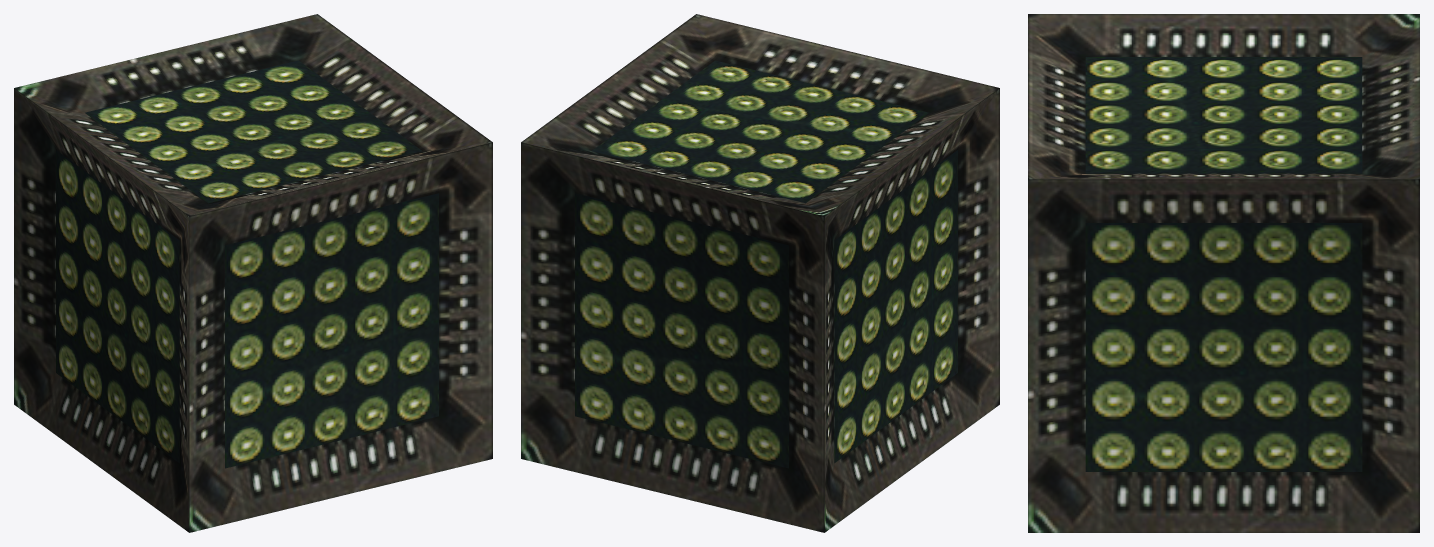
File: Crate02.FBX
The picture shows the model from 3 angles, left to right: view 1: azimuth 30°, elevation 25°; view 2: azimuth 150°, elevation 25°; view 3: azimuth 270°, elevation 25°; orthographic projection. The views are drawn at different scales.
Visible parts, largest first — view 1: Crate02; view 2: Crate02; view 3: Crate02.
Part boxes in pixels (bbox=[...]): Crate02: bbox=[14, 14, 492, 532]; Crate02: bbox=[521, 14, 999, 532]; Crate02: bbox=[1028, 14, 1419, 532].
Bounding box in the file's own units: 142 × 142 × 142.
